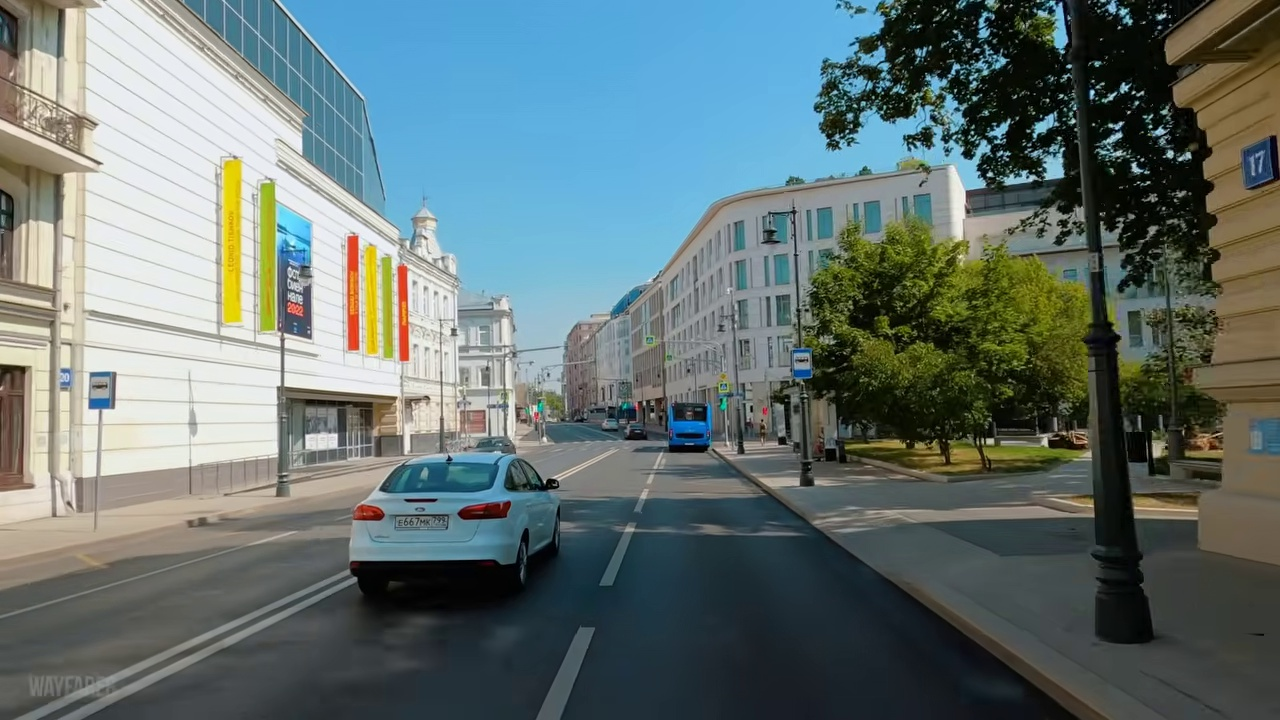apagada: (761, 223, 780, 258)
